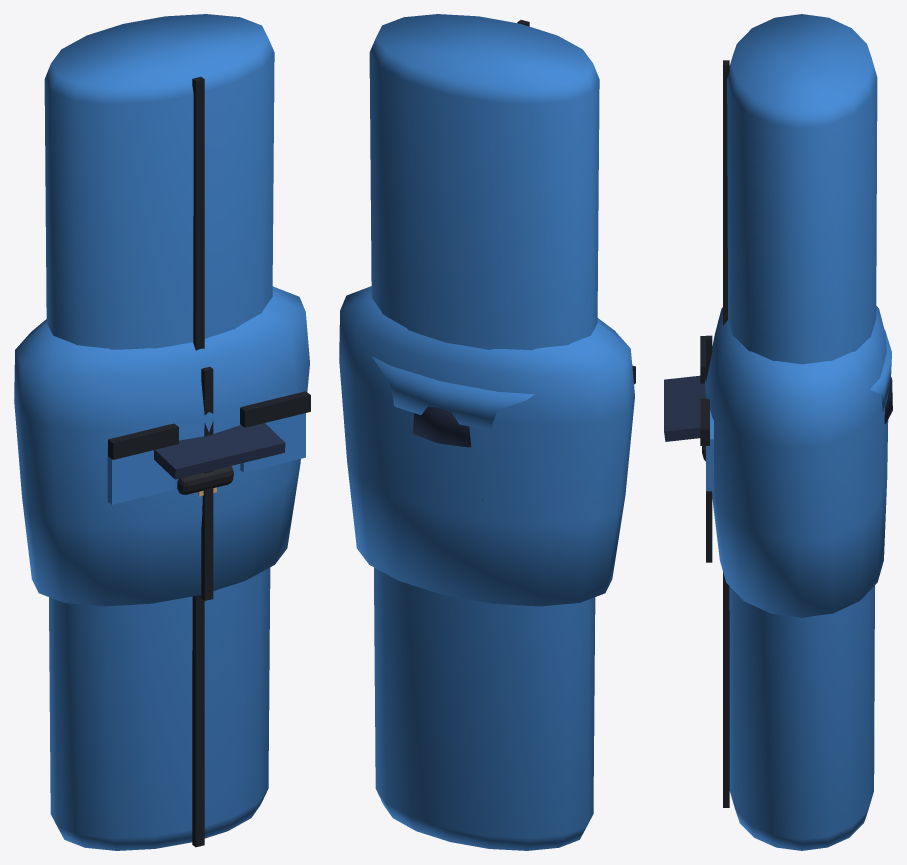
Rendered from player.glb.
3 renders of one model, left to right at view 1: azimuth 30°, elevation 25°; view 2: azimuth 150°, elevation 25°; view 3: azimuth 270°, elevation 25°, orthographic. The views are drawn at different scales.
Parts seen in each view (by area): view 1: abdomen, chest, head, hand; view 2: abdomen, chest, pelvis, head; view 3: abdomen, chest, head, pelvis.
Part boxes in pixels (x1,y1,x2,y2): abdomen: [44, 14, 274, 850]; chest: [14, 286, 310, 606]; head: [154, 423, 285, 496]; hand: [177, 466, 233, 494]; abdomen: [369, 14, 599, 850]; chest: [339, 286, 635, 606]; pelvis: [371, 356, 534, 429]; head: [412, 406, 471, 447]; abdomen: [723, 14, 877, 850]; chest: [700, 306, 888, 617]; head: [664, 375, 892, 441]; pelvis: [870, 329, 891, 412].
Bounding box in the file's own units: 0.384 × 1 × 0.2791.
